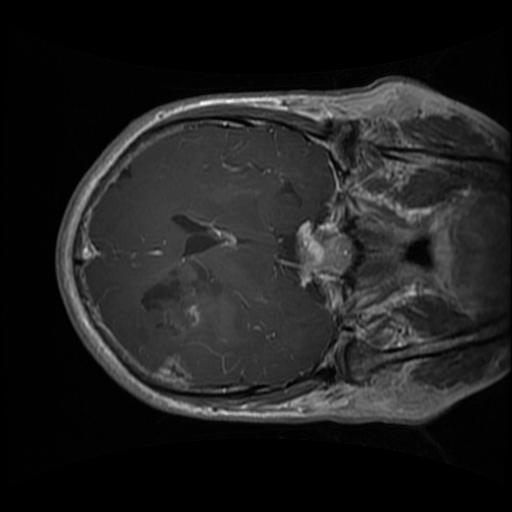glioma: (138, 260, 207, 340)
